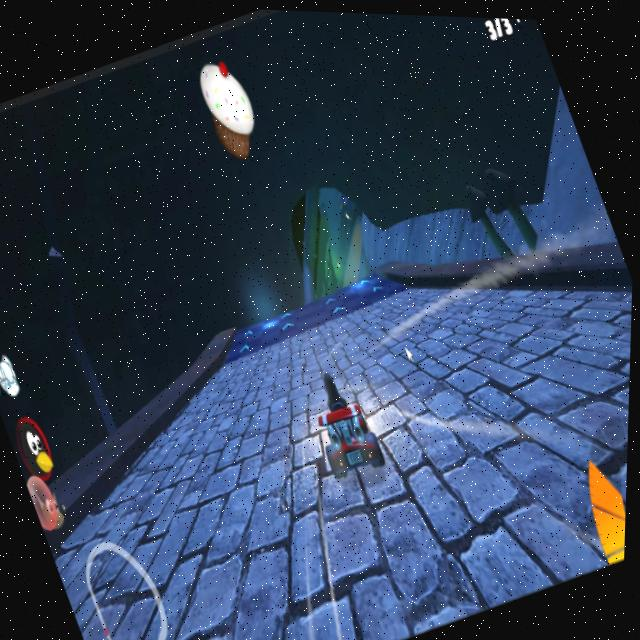player_kart: (297, 356, 395, 492)
power_up: (321, 293, 355, 319), (272, 304, 305, 328), (236, 339, 256, 358)
